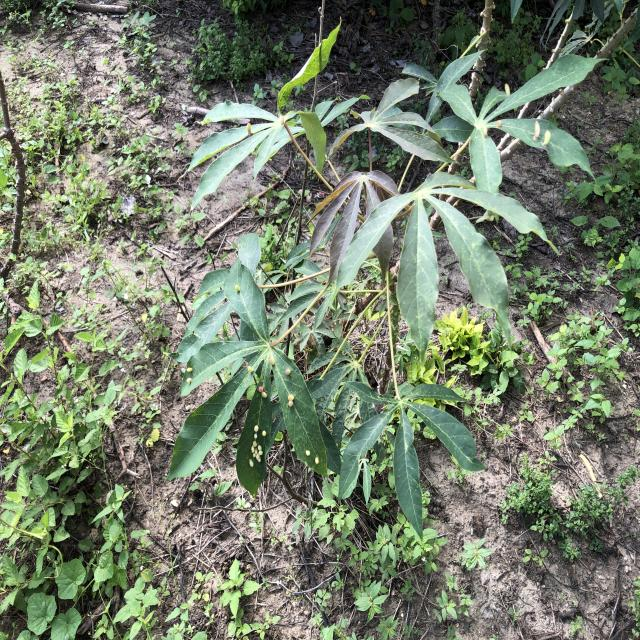Maleza: (4, 289, 134, 639)
Mosca: (249, 421, 271, 472), (527, 114, 556, 152), (262, 335, 278, 366), (490, 115, 510, 137), (255, 385, 274, 406), (303, 446, 324, 465), (183, 363, 199, 387), (239, 359, 260, 376), (243, 118, 258, 139), (285, 392, 298, 416), (282, 364, 297, 379), (231, 282, 243, 297)
